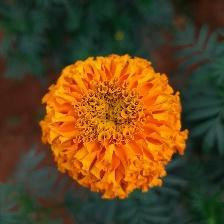marigold: (38, 50, 193, 204)
